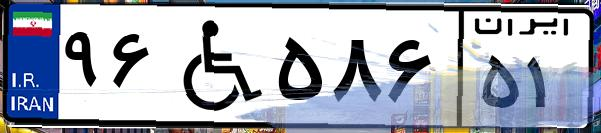1: (525, 38, 570, 115)
5: (270, 28, 330, 110), (475, 38, 525, 113)
6: (385, 28, 445, 110), (110, 28, 158, 98)
8: (330, 28, 385, 110)
9: (57, 26, 110, 100)
ژ (معلولین و جانبازان): (158, 12, 270, 120)
